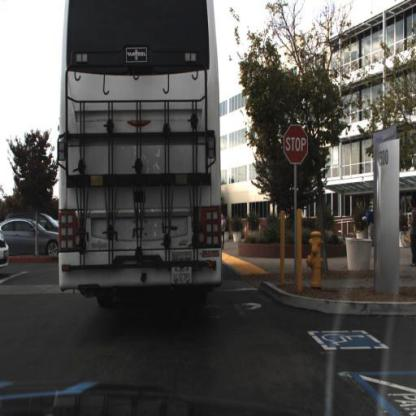car: (1, 218, 65, 259)
pedestrian: (363, 206, 380, 251), (406, 197, 416, 267), (365, 208, 375, 243)
truck: (49, 2, 229, 312)
